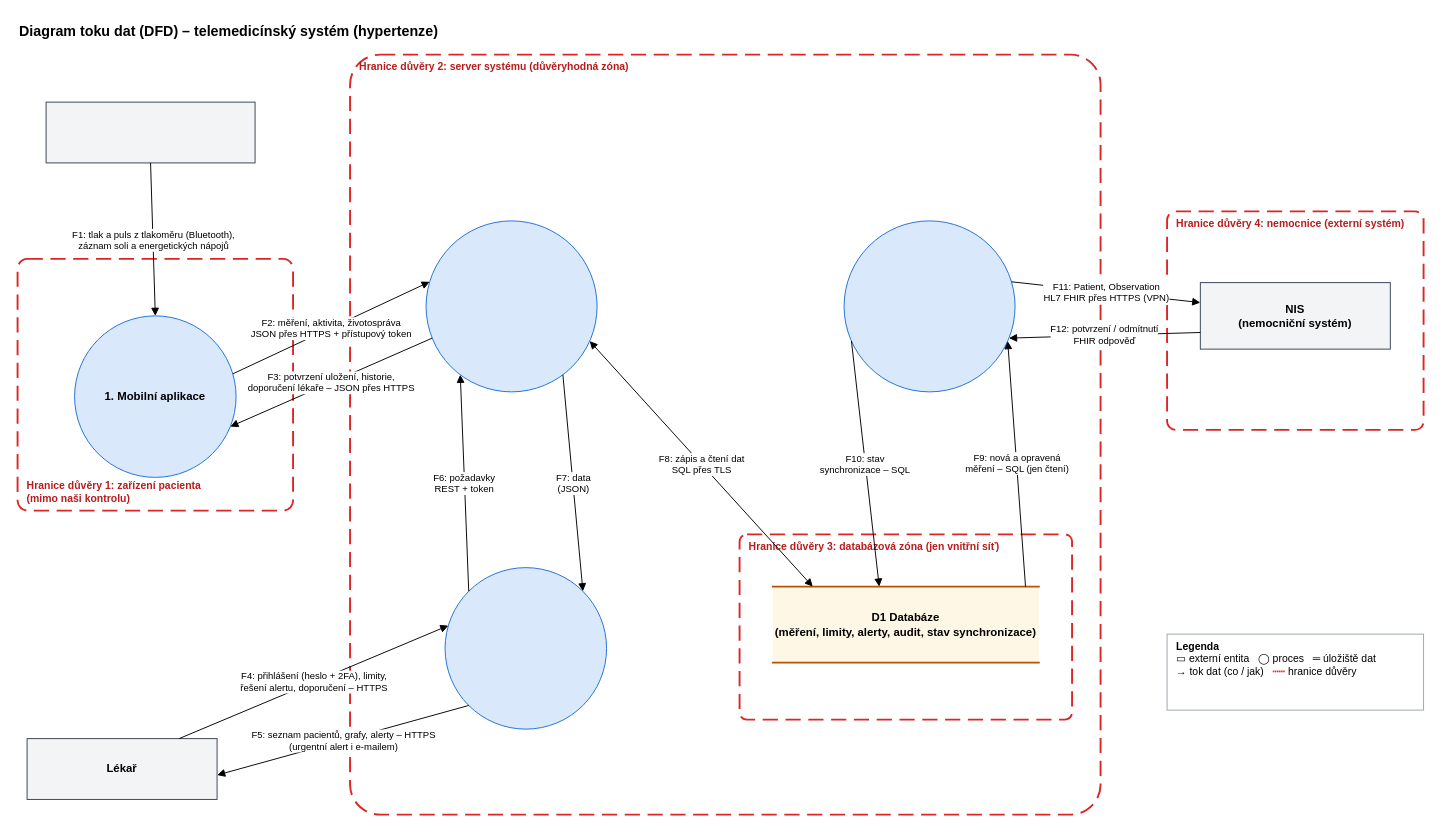
Some shapes in this 1440 by 831 pixel diagram are drawn without their labels. The centre of each missing label's shape, as x and y in pixels:
"2. WEB API" goes at (511,306).
"3. Webový portál" goes at (525,648).
"4. Integrátor NIS" goes at (929,306).
"Pacient (s tlakoměrem)" goes at (150,132).
